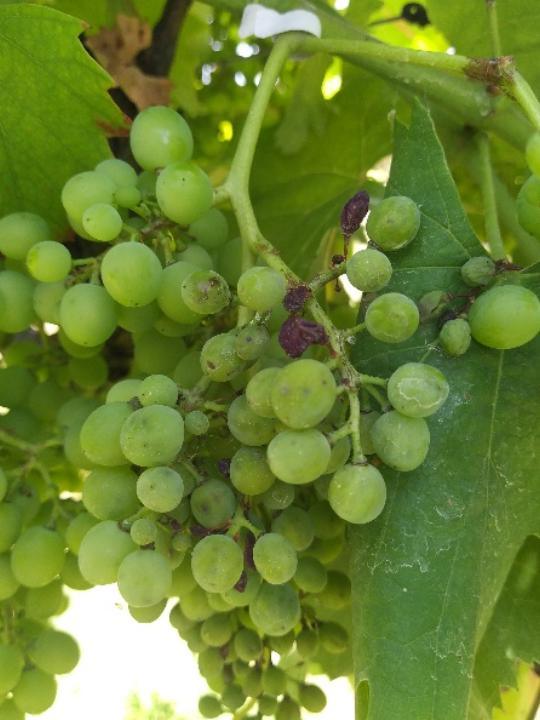grape: (26, 106, 454, 635)
